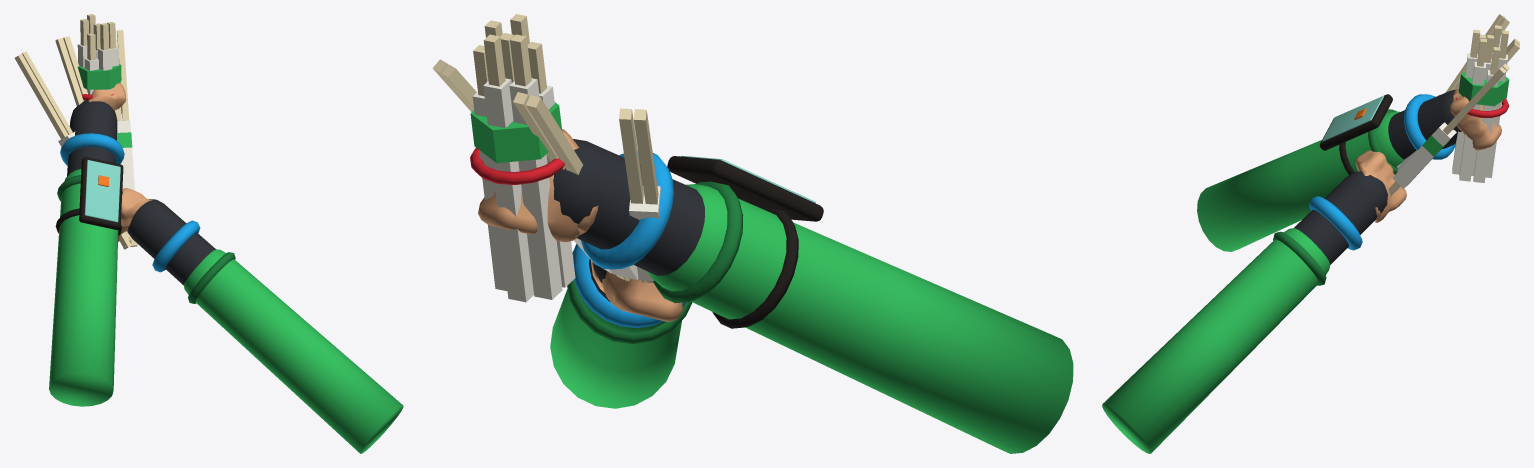
The model's file is rider.glb.
The picture shows the model from 3 angles, left to right: view 1: azimuth 30°, elevation 25°; view 2: azimuth 150°, elevation 25°; view 3: azimuth 270°, elevation 25°; orthographic projection. The views are drawn at different scales.
Parts seen in each view (by area): view 1: R, L; view 2: L, R; view 3: R, L.
Boxes of the visible parts, box(x1,y1,x2,y2) form: R: box(14, 30, 403, 453); L: box(49, 14, 126, 406); L: box(470, 14, 1073, 453); R: box(432, 59, 692, 408); R: box(1102, 14, 1519, 453); L: box(1197, 25, 1509, 251).
Bounding box in the file's own units: 0.6399 × 0.6763 × 0.7036.
